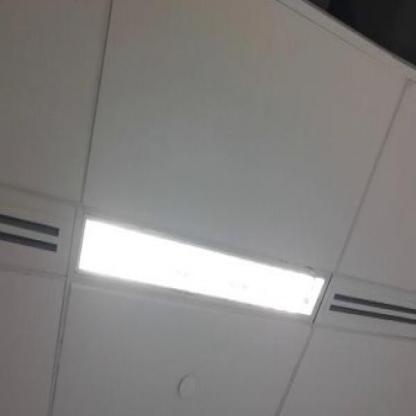light_on: (67, 205, 338, 327)
